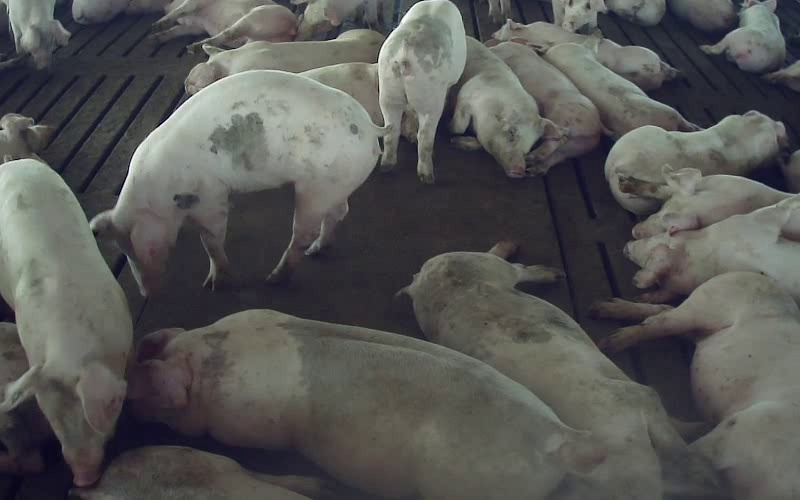pig: (129, 310, 601, 497), (401, 243, 684, 499), (91, 70, 384, 295), (593, 272, 799, 499), (624, 195, 799, 305), (605, 111, 786, 214), (449, 37, 560, 177), (544, 43, 700, 138), (491, 42, 602, 174), (185, 29, 384, 95), (620, 164, 791, 238)
